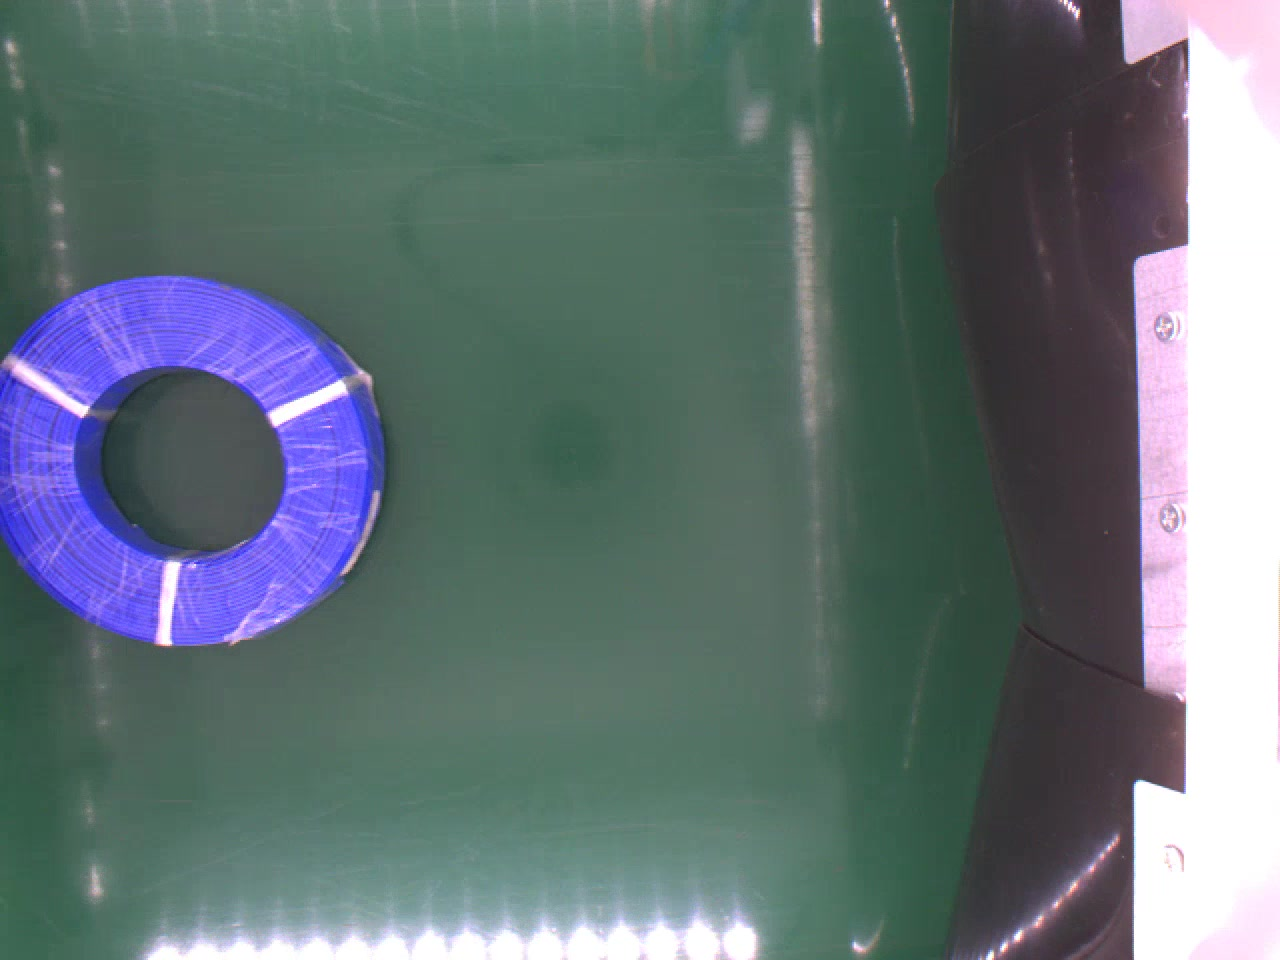blue: (3, 276, 389, 645)
